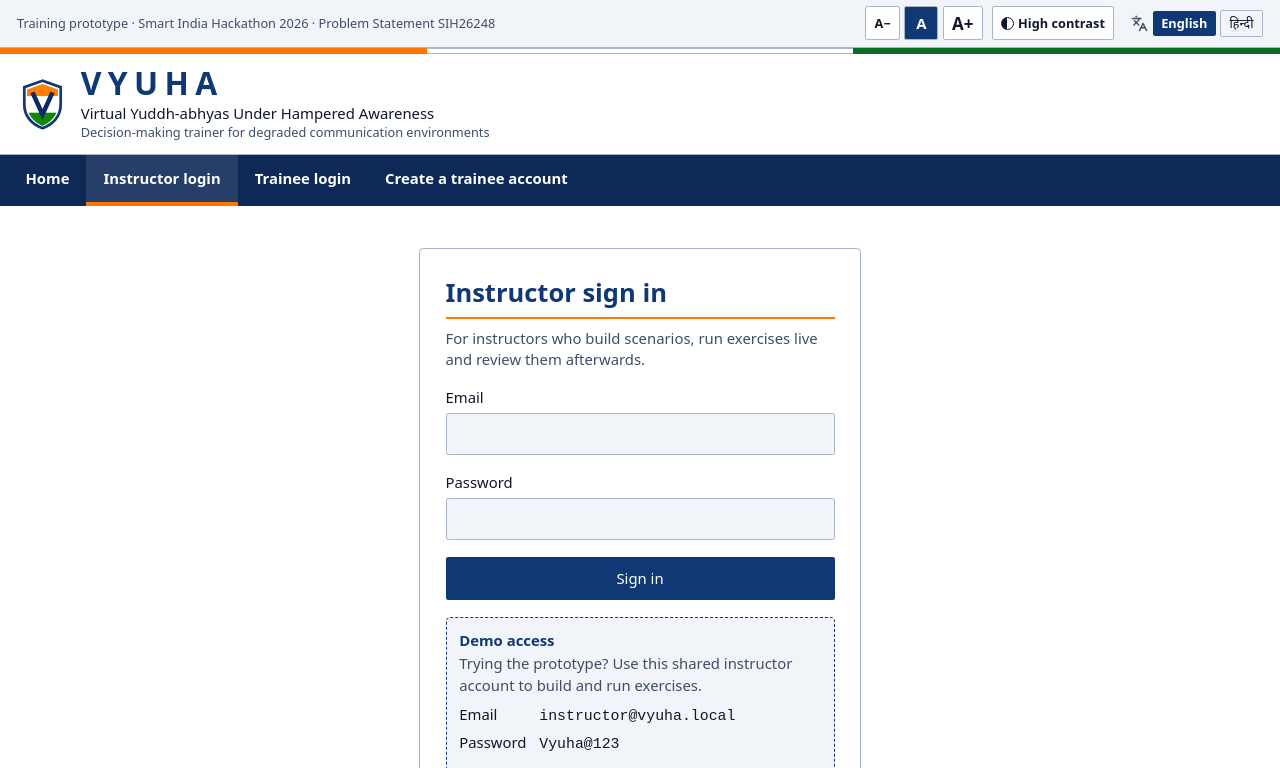
Test: two sign-in options › tells a person who used the wrong portal where to go, and links to the other one
Type "t@x.io" into the field labelled "Email" at (640, 434), box [446,413,834,455]
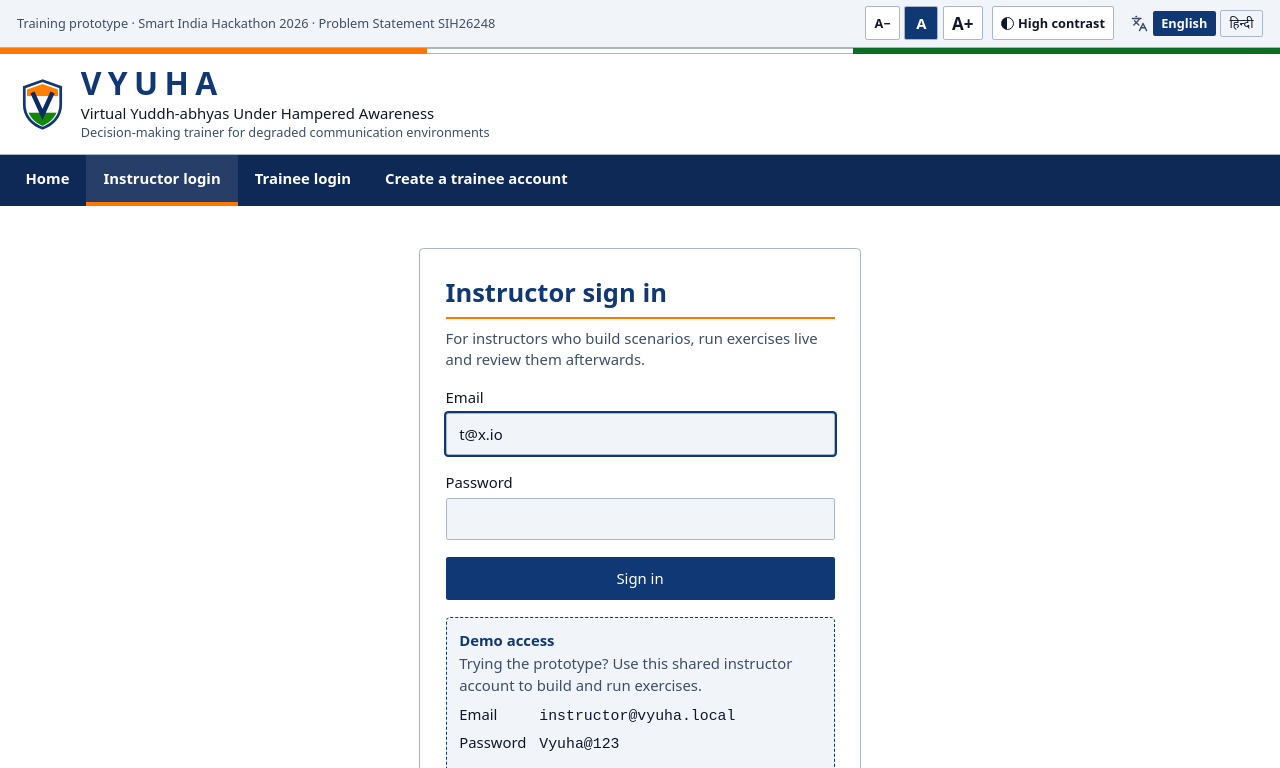
Type "Vyuha@123" into the password field labelled "Password" at (640, 519), box [446,498,834,540]
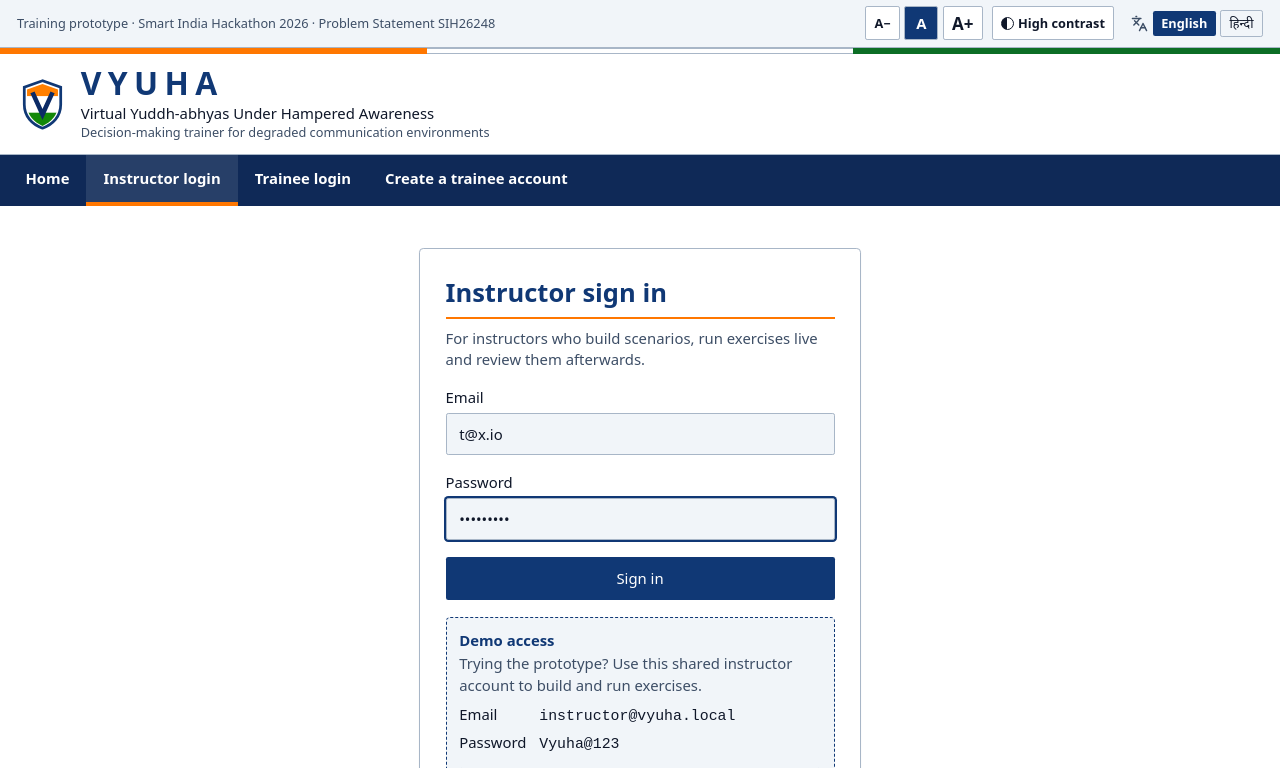
Click the button "Sign in" at (640, 579), box [446,557,834,600]
(page scrolled)
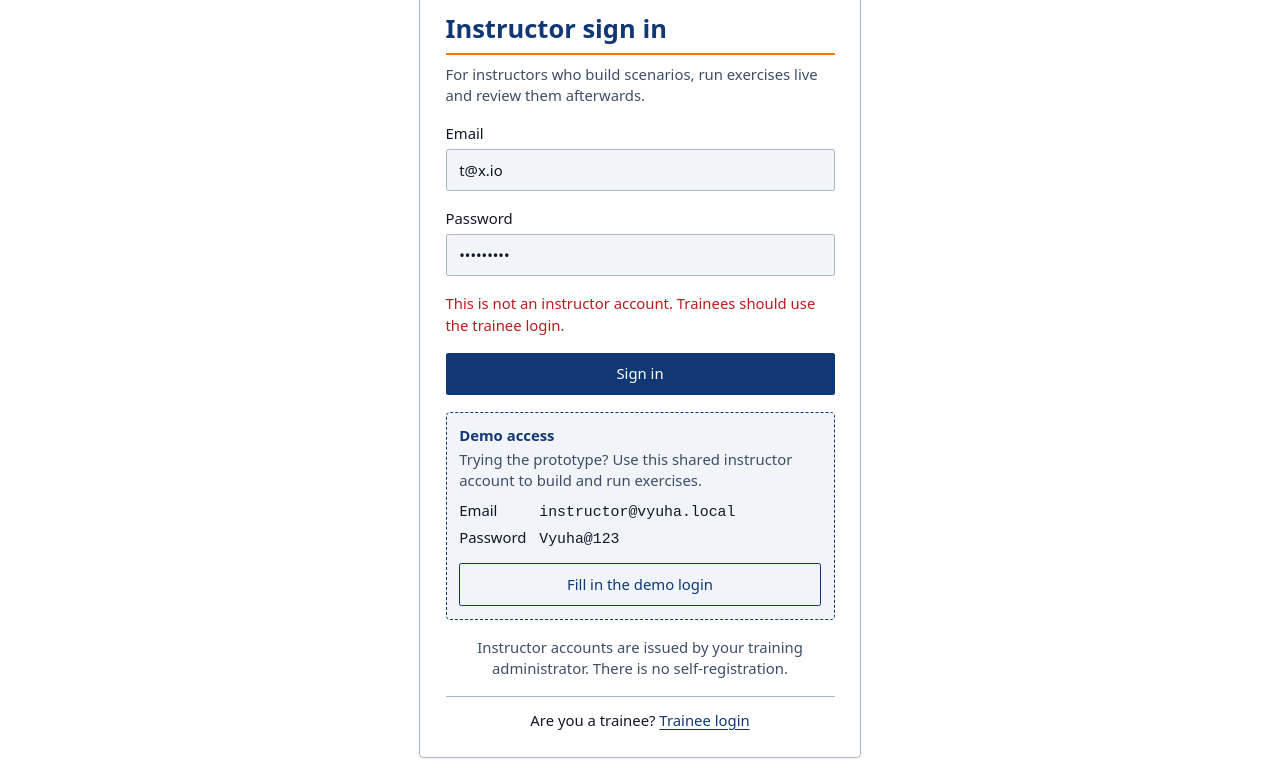
Now the message reads "This is not an instructor account. Trainees should use the trainee login.", box [446,293,815,335]
